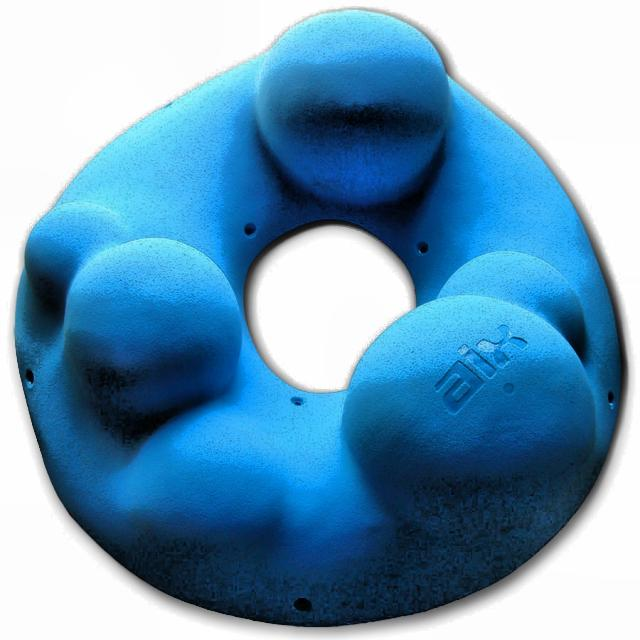Hold: (20, 7, 623, 630)
